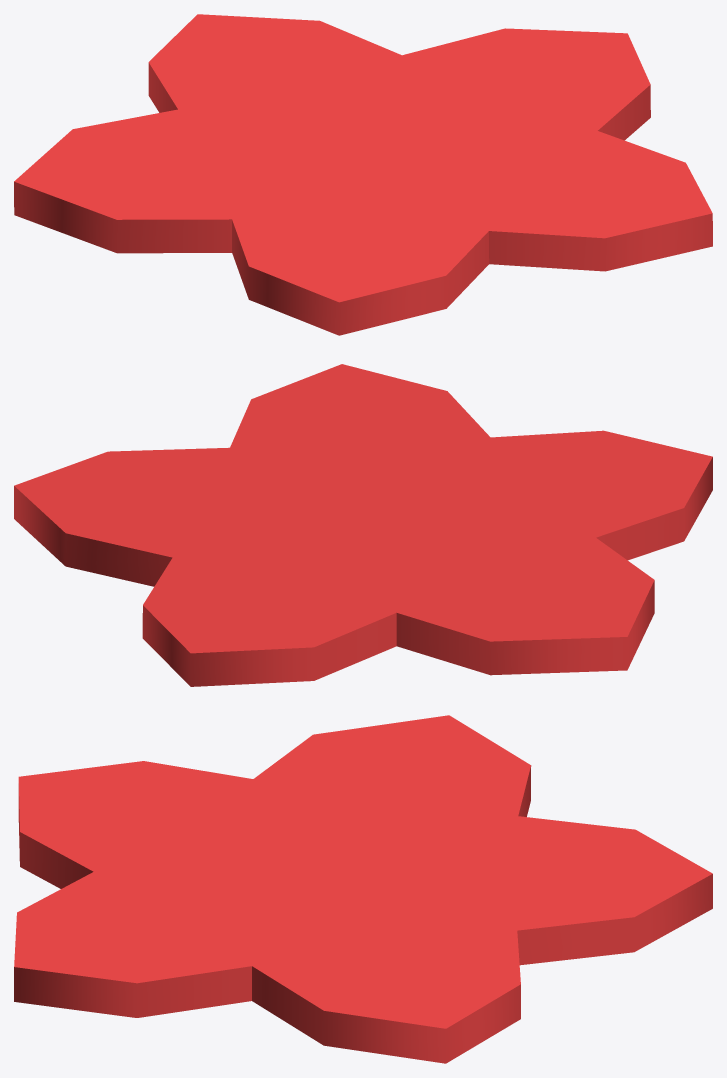
File: Flower_4.FBX
3 renders of one model, top to bottom at view 1: azimuth 30°, elevation 25°; view 2: azimuth 150°, elevation 25°; view 3: azimuth 270°, elevation 25°, orthographic. The views are drawn at different scales.
Visible parts, largest first — view 1: Flower_4; view 2: Flower_4; view 3: Flower_4.
Part boxes in pixels (x1,y1,x2,y2): Flower_4: [14, 14, 712, 335]; Flower_4: [14, 364, 712, 686]; Flower_4: [14, 715, 712, 1063].
Bounding box in the file's own units: 0.1604 × 0.0105 × 0.151.
Materials: 1 (1 with a texture image).
